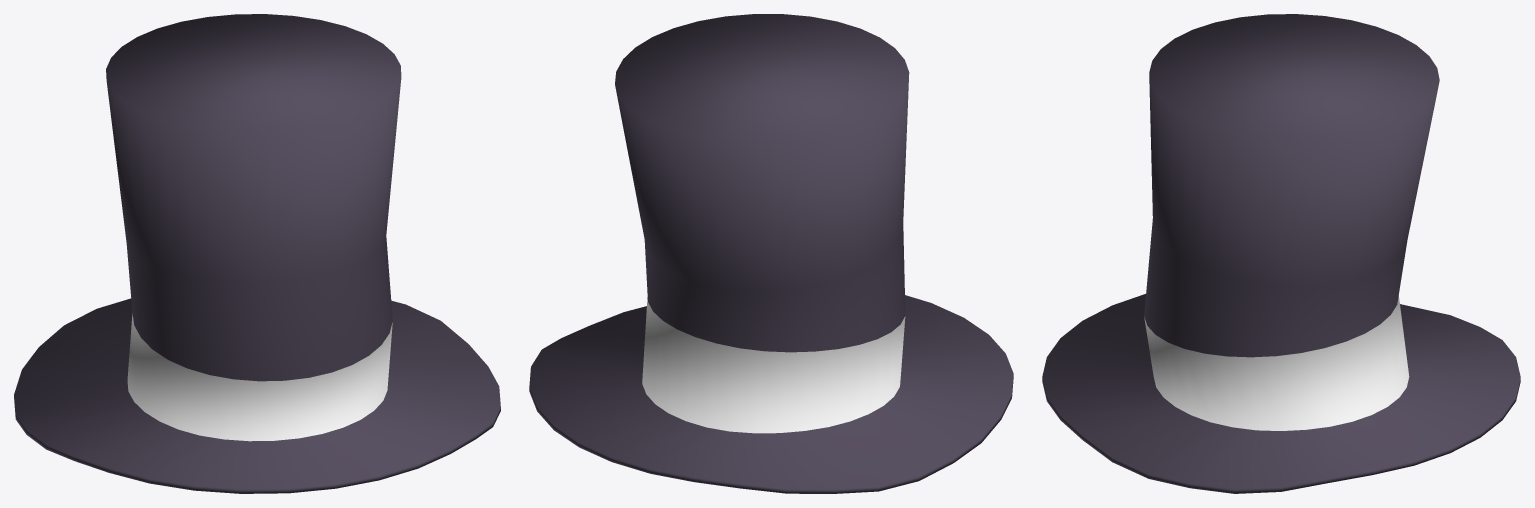
The model's file is Hat1.fbx.
3 renders of one model, left to right at view 1: azimuth 30°, elevation 25°; view 2: azimuth 150°, elevation 25°; view 3: azimuth 270°, elevation 25°, orthographic.
Parts seen in each view (by area): view 1: Cylinder; view 2: Cylinder; view 3: Cylinder.
Boxes of the visible parts, left/top/right/bottom form: Cylinder: left=14, top=14, right=500, bottom=493; Cylinder: left=529, top=14, right=1013, bottom=493; Cylinder: left=1042, top=14, right=1520, bottom=493.
Size of the model in its own units: 3.74 by 2.8 by 3.74.
